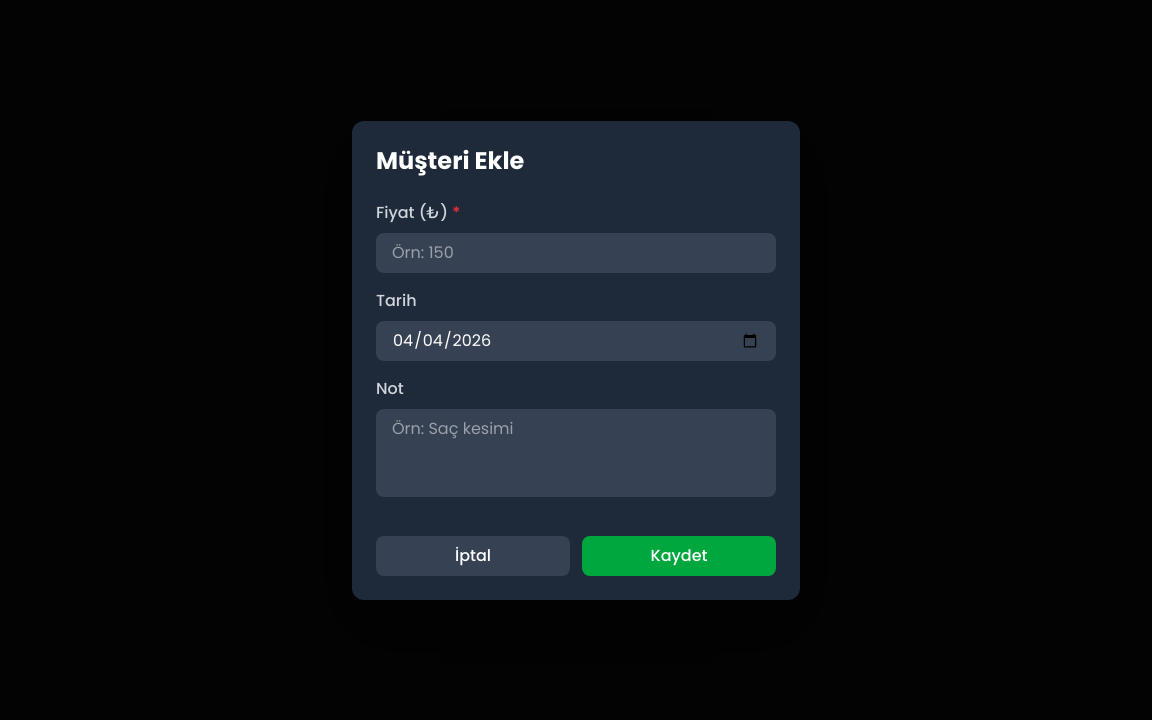
Test case: WalkInModal › disables submit button while loading
Type "150" into the number field with placeholder "Örn: 150". click: [576, 252]
box: 376,232 -> 776,272
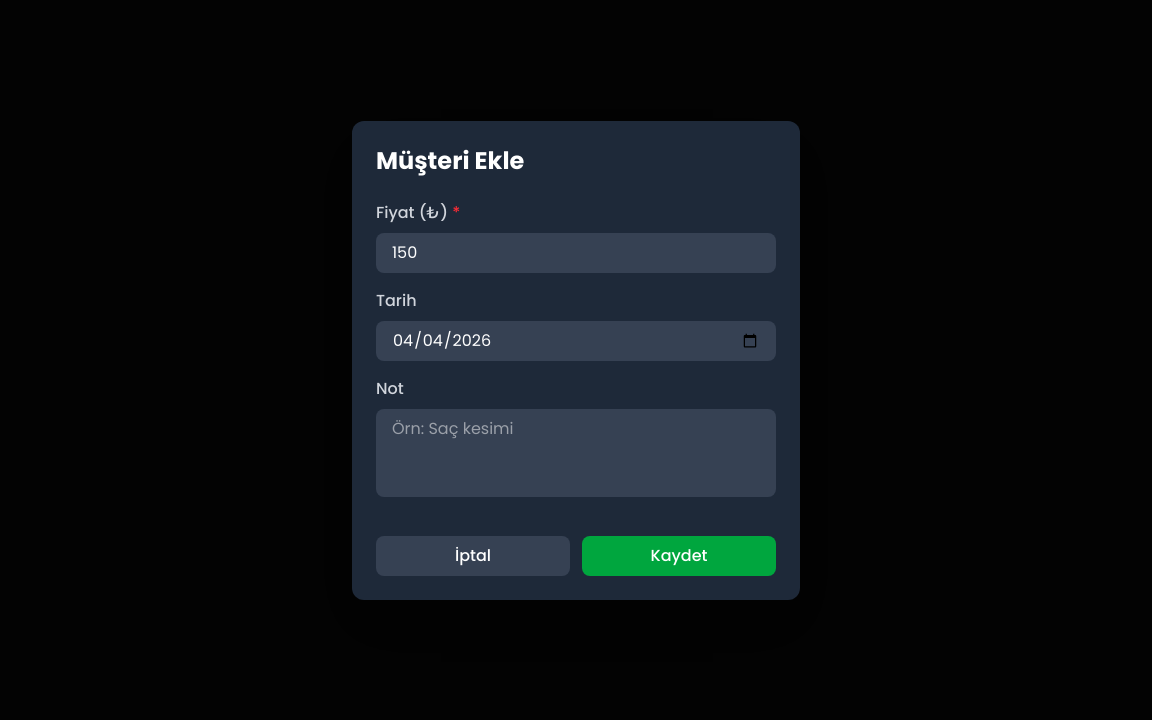
Click the button "Kaydet". click: [679, 556]
box: 582,536 -> 776,576
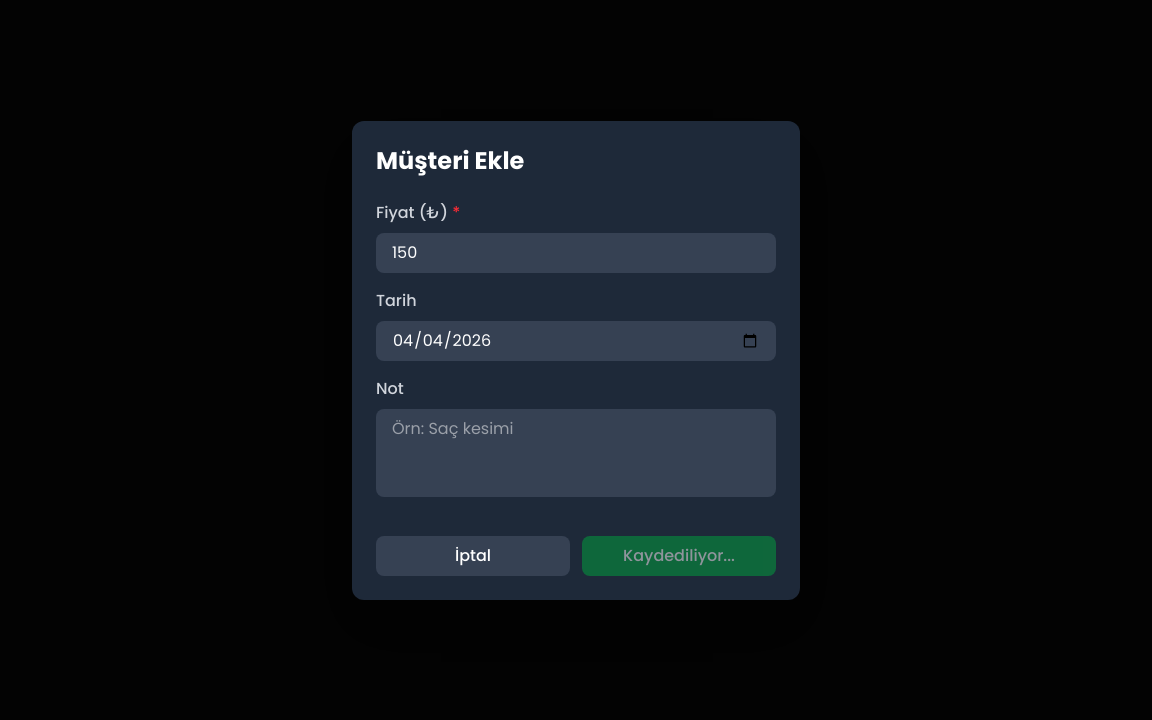
Expected: the button named "Kaydet" is disabled, 582,536 -> 776,576
